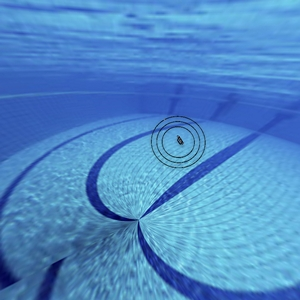circle: (144, 111, 217, 174)
submarine: (173, 133, 186, 146)
